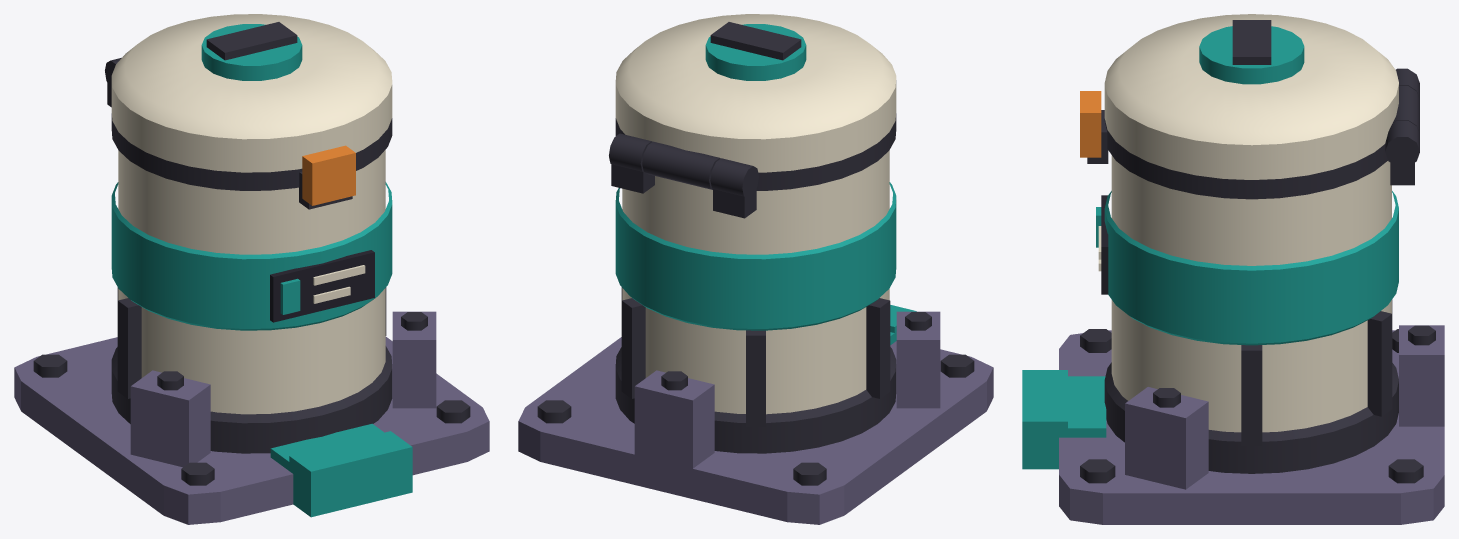
File: sample_container.glb
3 views of the same model, side by side, from view 1: azimuth 30°, elevation 25°; view 2: azimuth 150°, elevation 25°; view 3: azimuth 270°, elevation 25° (orthographic). The views are drawn at different scales.
Visible parts, largest first — view 1: container_CreamHull, container_PurpleGrey, lid_CreamHull, container_Teal, container_Graphite, container_DecalDark, lid_Teal, lid_Orange, lid_Graphite; view 2: container_PurpleGrey, lid_CreamHull, container_CreamHull, container_Graphite, container_Teal, lid_Graphite, lid_Teal; view 3: container_CreamHull, container_PurpleGrey, lid_CreamHull, container_Teal, container_Graphite, lid_Teal, lid_Graphite, lid_Orange, container_DecalDark.
Boxes of the visible parts, x1,y1,x2,y2 form: container_CreamHull: [118, 150, 385, 414]; container_PurpleGrey: [14, 311, 489, 524]; lid_CreamHull: [111, 14, 392, 172]; container_Teal: [111, 182, 412, 517]; container_Graphite: [33, 57, 470, 485]; container_DecalDark: [270, 250, 374, 322]; lid_Teal: [201, 24, 302, 80]; lid_Orange: [302, 145, 355, 205]; lid_Graphite: [206, 22, 297, 60]; container_PurpleGrey: [518, 311, 993, 524]; lid_CreamHull: [615, 14, 896, 172]; container_CreamHull: [622, 150, 889, 414]; container_Graphite: [537, 113, 974, 485]; container_Teal: [615, 182, 916, 344]; lid_Graphite: [642, 22, 801, 189]; lid_Teal: [705, 24, 806, 80]; container_CreamHull: [1098, 155, 1391, 432]; container_PurpleGrey: [1059, 325, 1444, 524]; lid_CreamHull: [1104, 14, 1398, 179]; container_Teal: [1022, 191, 1398, 469]; container_Graphite: [1080, 68, 1435, 483]; lid_Teal: [1199, 26, 1304, 84]; lid_Graphite: [1232, 20, 1419, 134]; lid_Orange: [1080, 91, 1101, 157]; container_DecalDark: [1101, 195, 1108, 294].
Bounding box in the file's own units: 0.22 × 0.255 × 0.241.
